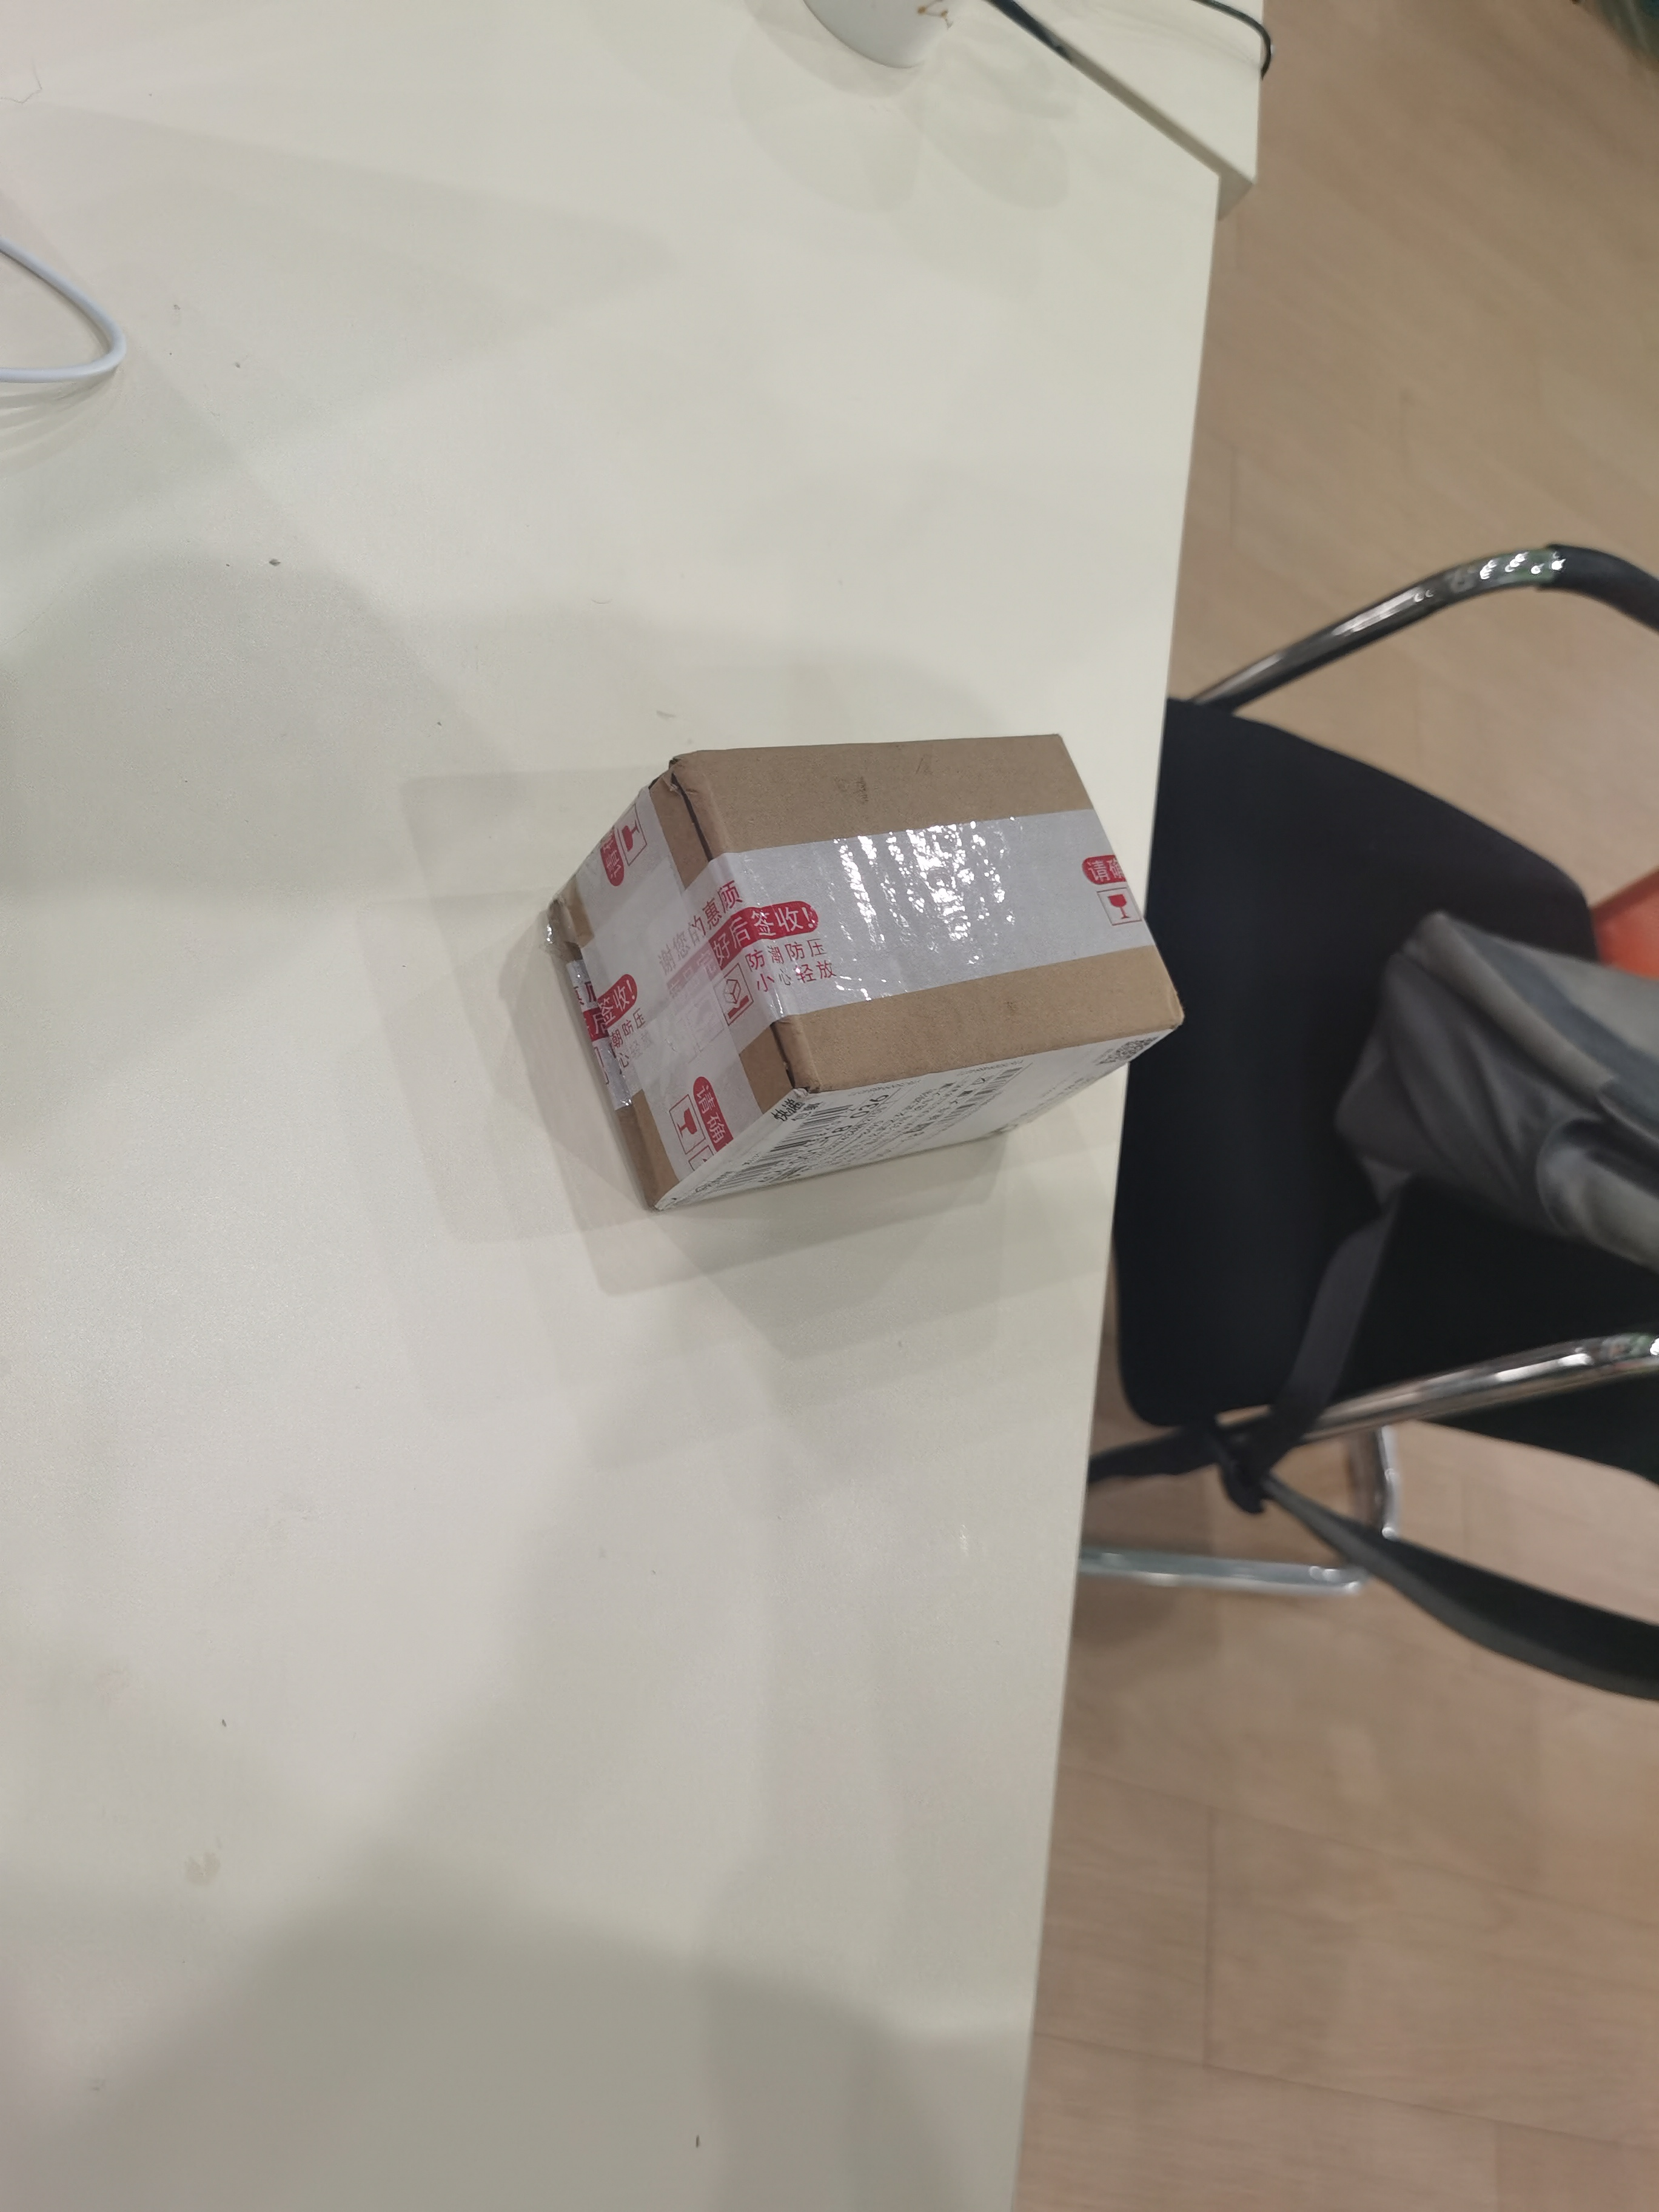box: (535, 725, 1190, 1240)
